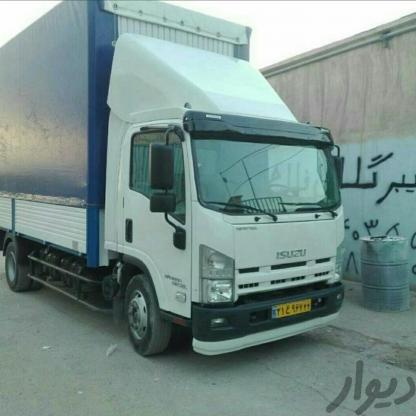Truck: (0, 0, 342, 369)
